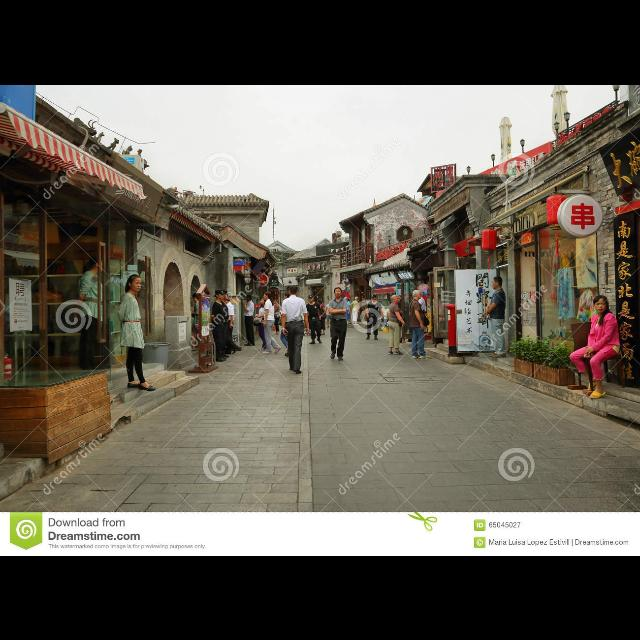head: (594, 294, 610, 314), (89, 253, 105, 271), (128, 273, 142, 291), (492, 275, 504, 289), (288, 284, 298, 296), (412, 289, 422, 299), (334, 287, 344, 297), (216, 290, 226, 300), (392, 294, 401, 304), (193, 292, 201, 302), (308, 294, 316, 302), (263, 291, 271, 299), (220, 290, 228, 298), (245, 294, 252, 302), (414, 290, 422, 296), (372, 294, 378, 302), (284, 292, 292, 298), (260, 296, 266, 304), (224, 296, 230, 302), (398, 294, 402, 300), (354, 296, 360, 300), (318, 298, 322, 304), (274, 298, 278, 304), (345, 296, 349, 300), (329, 300, 333, 304)
person: (568, 291, 624, 401), (116, 272, 158, 392), (76, 252, 106, 376), (280, 282, 312, 374), (481, 272, 509, 360), (407, 286, 433, 360), (186, 292, 214, 352), (327, 286, 349, 362), (261, 290, 283, 354), (210, 287, 228, 361), (221, 294, 243, 354), (387, 293, 408, 355), (279, 292, 299, 356), (364, 292, 386, 342), (252, 294, 270, 352), (303, 294, 323, 344), (216, 288, 230, 359), (412, 288, 430, 338), (240, 292, 256, 348), (314, 298, 328, 334), (349, 294, 361, 326), (272, 298, 282, 334), (342, 295, 352, 325), (326, 298, 336, 328), (395, 293, 403, 325)
